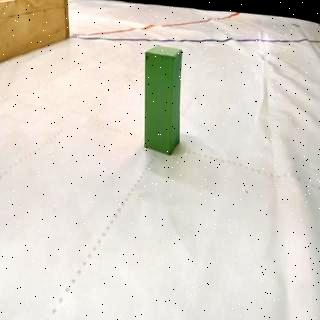greenbox: (143, 45, 185, 156)
